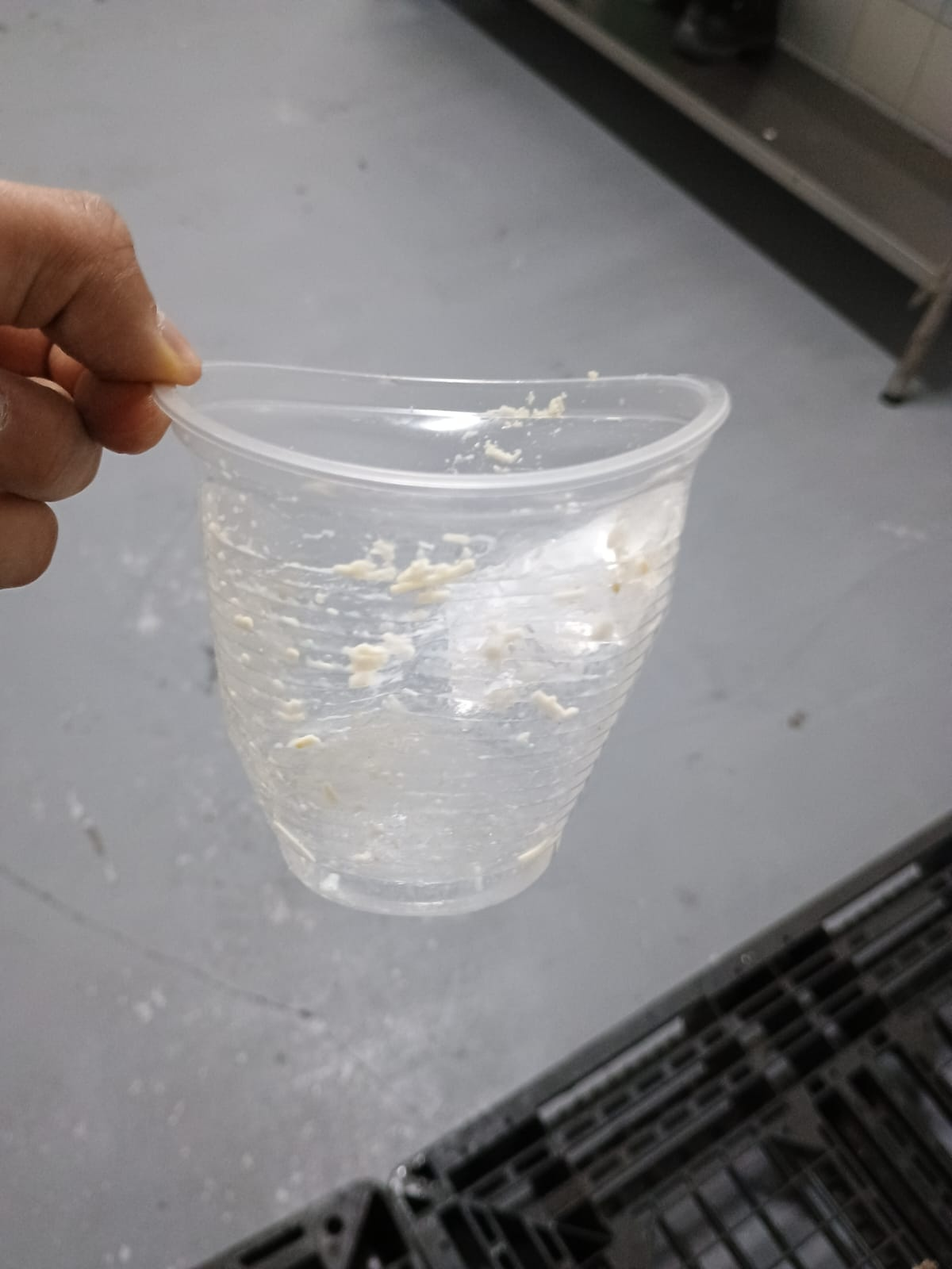Plastico: (145, 358, 729, 919)
